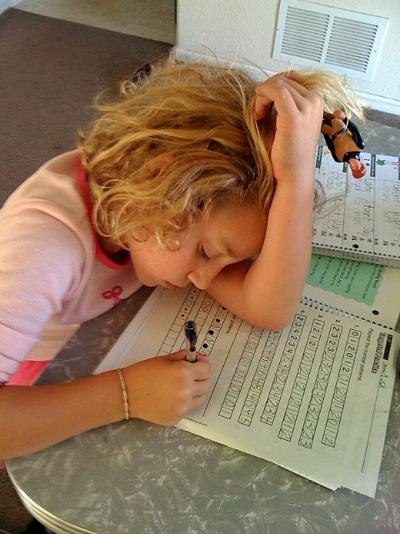person: (3, 54, 322, 461)
